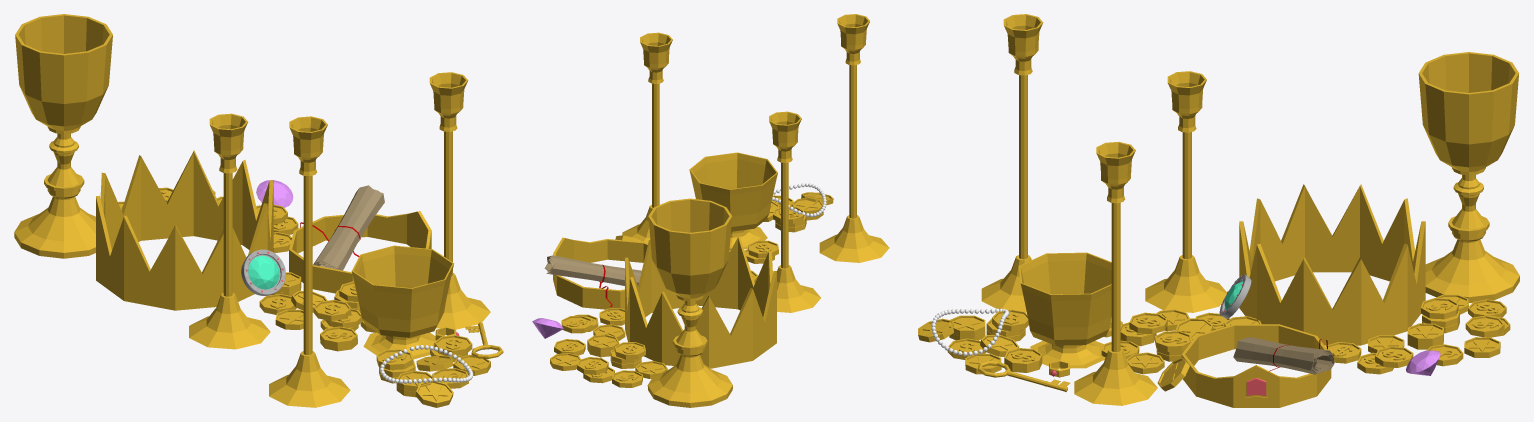
Rendered from Treasure.fbx.
The picture shows the model from 3 angles, left to right: view 1: azimuth 30°, elevation 25°; view 2: azimuth 150°, elevation 25°; view 3: azimuth 270°, elevation 25°; orthographic projection. The views are drawn at different scales.
Parts seen in each view (by area): view 1: KingCrown, CandleSticks, WineCup, Coins, TreasureCup, QueenCrown, Ribbon, CustomDiamond, Necklace, Diamond, Key; view 2: KingCrown, WineCup, CandleSticks, Coins, TreasureCup, QueenCrown, Ribbon, Necklace, Diamond; view 3: KingCrown, Coins, CandleSticks, WineCup, TreasureCup, QueenCrown, Ribbon, Necklace, CustomDiamond, Key, Diamond.
Boxes of the visible parts, <box> form: KingCrown: <box>96,150,273,310</box>; CandleSticks: <box>189,72,490,407</box>; WineCup: <box>14,14,112,258</box>; Coins: <box>118,187,490,407</box>; TreasureCup: <box>351,245,454,359</box>; QueenCrown: <box>289,211,431,293</box>; Ribbon: <box>291,185,384,270</box>; CustomDiamond: <box>241,249,285,295</box>; Necklace: <box>379,345,473,383</box>; Diamond: <box>256,180,293,207</box>; Key: <box>465,322,503,358</box>; KingCrown: <box>625,236,776,368</box>; WineCup: <box>647,198,732,407</box>; CandleSticks: <box>622,14,889,312</box>; Coins: <box>550,192,833,387</box>; TreasureCup: <box>689,152,777,249</box>; QueenCrown: <box>553,237,647,309</box>; Ribbon: <box>544,255,641,306</box>; Necklace: <box>772,183,826,217</box>; Diamond: <box>532,318,563,338</box>; KingCrown: <box>1239,184,1425,345</box>; Coins: <box>918,294,1510,391</box>; CandleSticks: <box>981,14,1226,405</box>; WineCup: <box>1418,52,1519,302</box>; TreasureCup: <box>1019,252,1111,368</box>; QueenCrown: <box>1181,324,1331,407</box>; Ribbon: <box>1233,337,1334,374</box>; Necklace: <box>931,308,1008,356</box>; CustomDiamond: <box>1219,274,1251,318</box>; Key: <box>978,361,1070,391</box>; Diamond: <box>1406,350,1440,375</box>.
Size of the model in its own units: 35.55 by 30.5 by 60.95.
